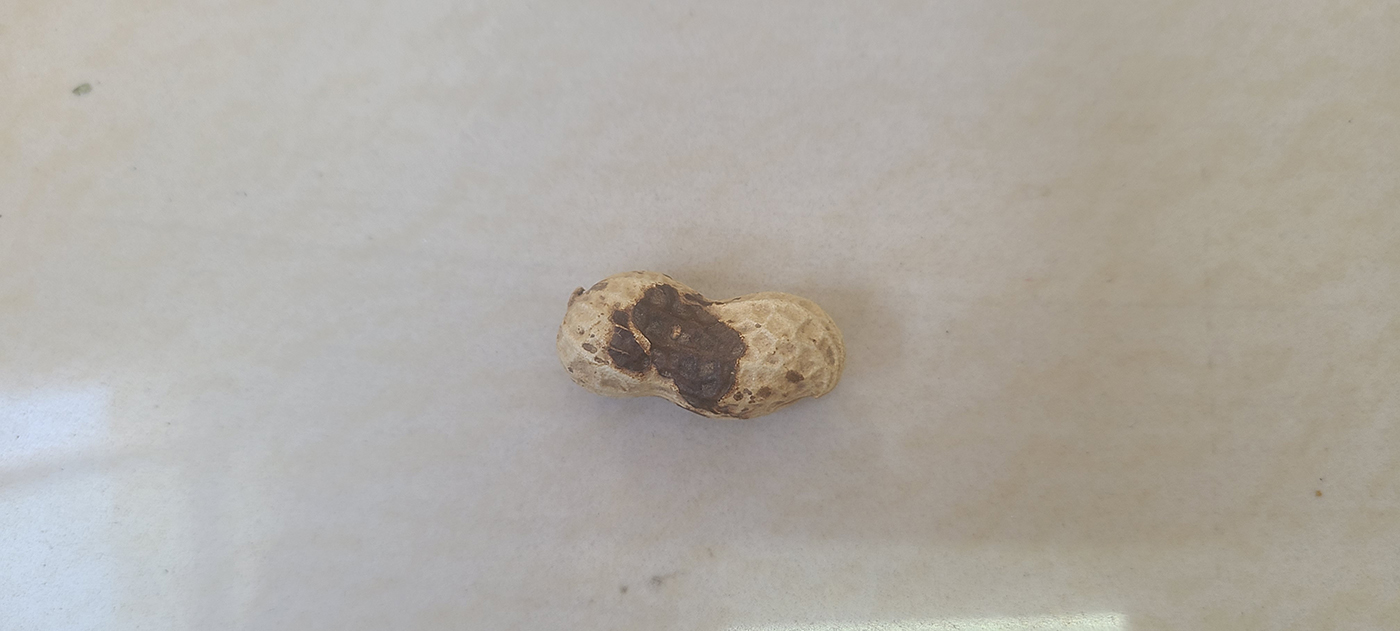l: (556, 272, 846, 416)
